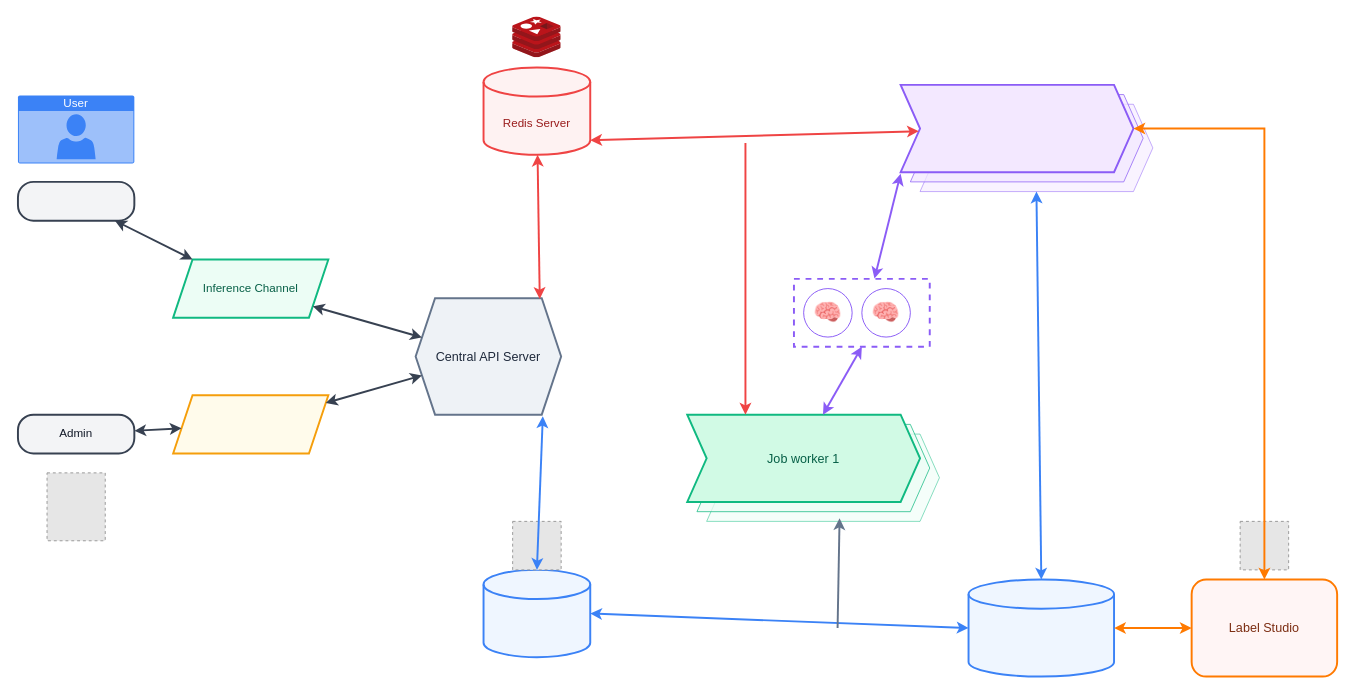
Some shapes in this 1354 by 694 pixel diagram are drawn without their labels. Grey dashed boxes stand in for pictures. Each missing label, with the box of its shape:
Annotated Database: (967, 578, 1115, 677)
End user: (16, 180, 135, 221)
Management Channel: (172, 394, 329, 454)
PostgreSQL: (482, 568, 591, 658)
Training worker 1: (899, 83, 1134, 173)
